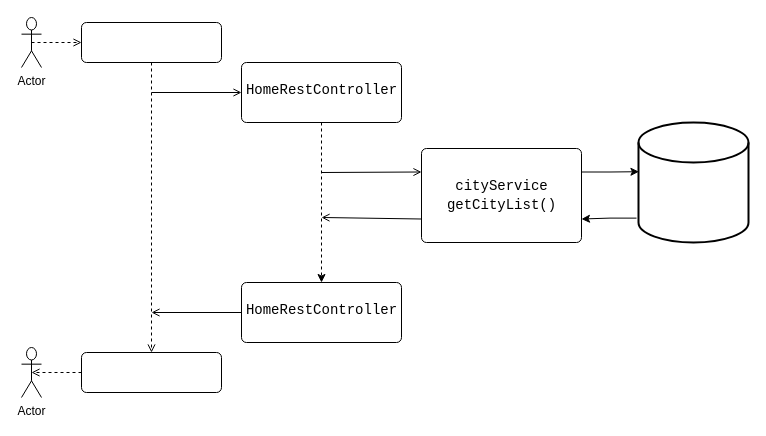
The diagram is 766 pixels wide and 436 high, and some of its shapes have lost their labels. The shapes that lost their labels are listed below. From the top down, each one's centre as x and y in pixels, then its label:
(x=151, y=42): GET request
(x=693, y=182): Cities table
(x=151, y=372): JSON response
